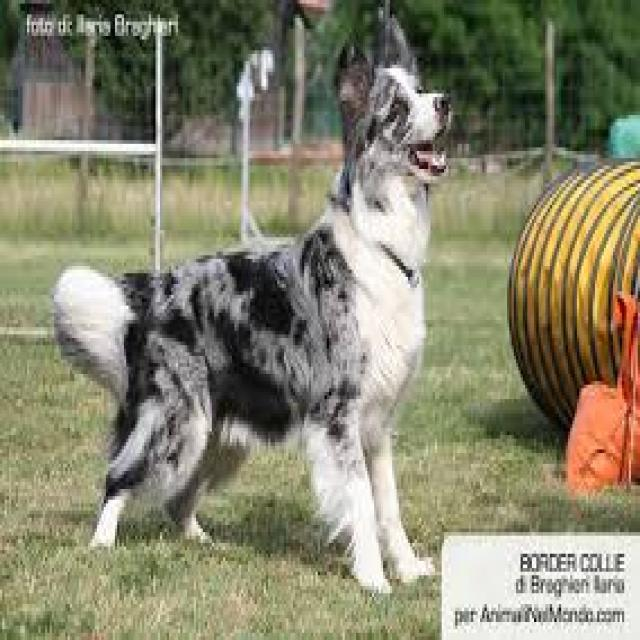BORDER_COLLIE: (50, 9, 465, 596)
